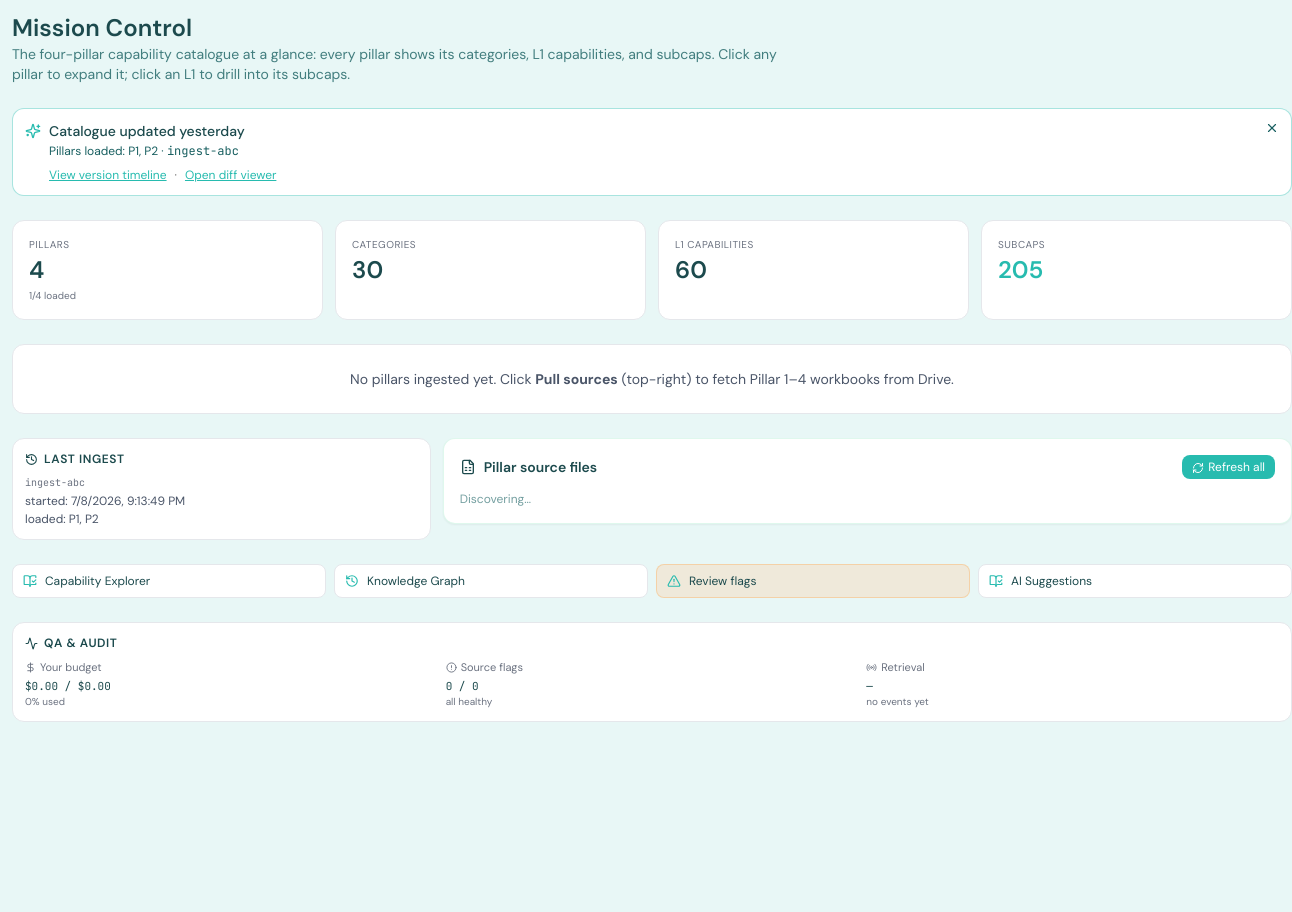
Test: Mission Control changelog tile (IMP-14) › dismiss persists per-run via localStorage
Check: the text "Catalogue updated yesterday" is shown, box [49,122,245,140]
Click the button named "dismiss catalogue update".
click(1272, 128)  # box [1265,121,1279,135]
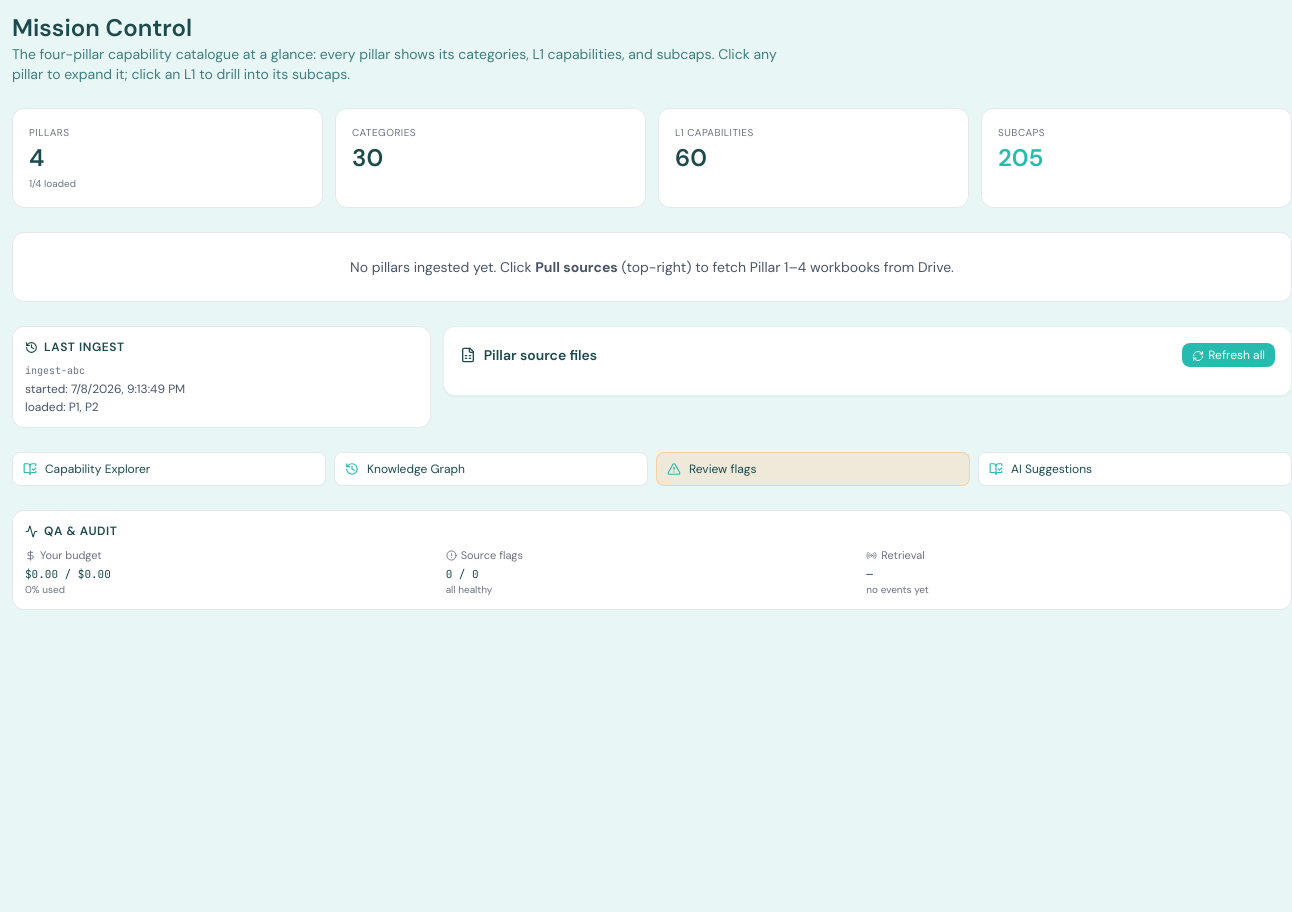
Check: the text "Catalogue updated" is gone
